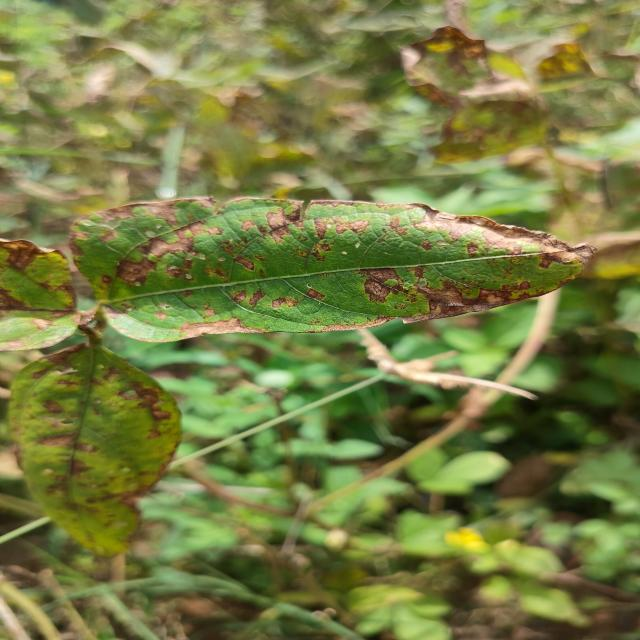Black gram_leaf spot: (69, 197, 593, 342), (7, 335, 180, 558), (0, 240, 79, 351)
